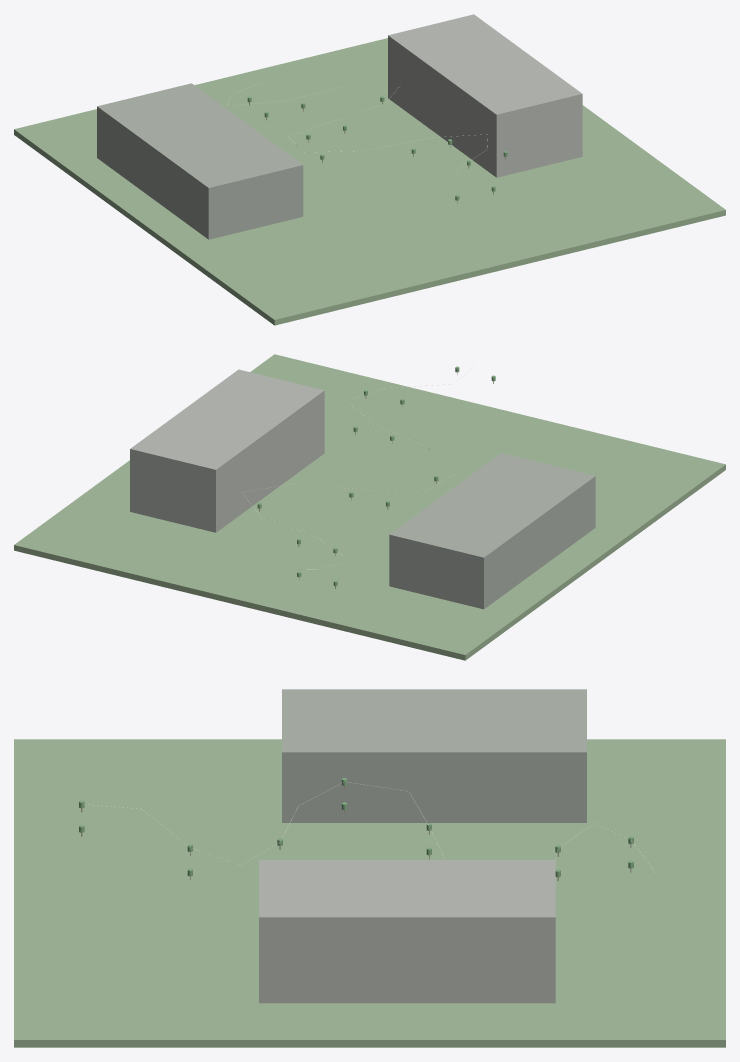
Rendered from serra-do-rio-do-rastro.glb.
3 views of the same model, one above another, from view 1: azimuth 30°, elevation 25°; view 2: azimuth 150°, elevation 25°; view 3: azimuth 270°, elevation 25° (orthographic). The views are drawn at different scales.
Visible parts, largest first — view 1: mountain_base_0000, mountain_east_0063, mountain_west_0064; view 2: mountain_base_0000, mountain_east_0063, mountain_west_0064; view 3: mountain_base_0000, mountain_east_0063, mountain_west_0064.
Part boxes in pixels (x1,y1,x2,y2): mountain_base_0000: (14,38,725,325); mountain_east_0063: (388,14,582,177); mountain_west_0064: (97,83,303,239); mountain_base_0000: (14,354,725,660); mountain_east_0063: (130,369,324,532); mountain_west_0064: (389,453,595,609); mountain_base_0000: (14,739,725,1047); mountain_east_0063: (259,860,555,1003); mountain_west_0064: (282,689,586,822).
Size of what is drawn, in the model's own units: 420 by 61.5 by 420.
